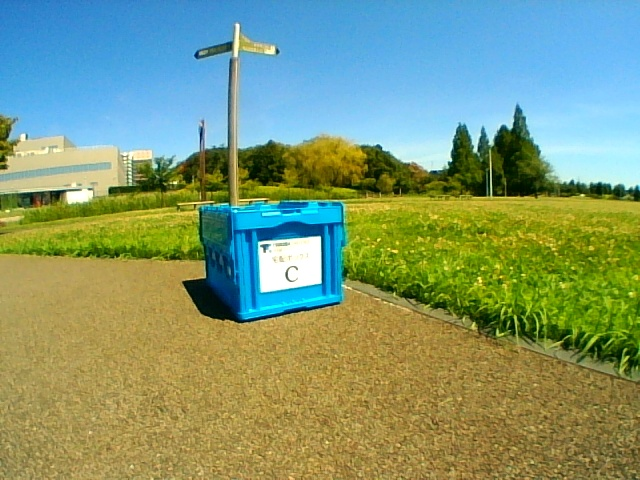blue_box: (199, 200, 343, 319)
tag_c: (267, 242, 315, 287)
